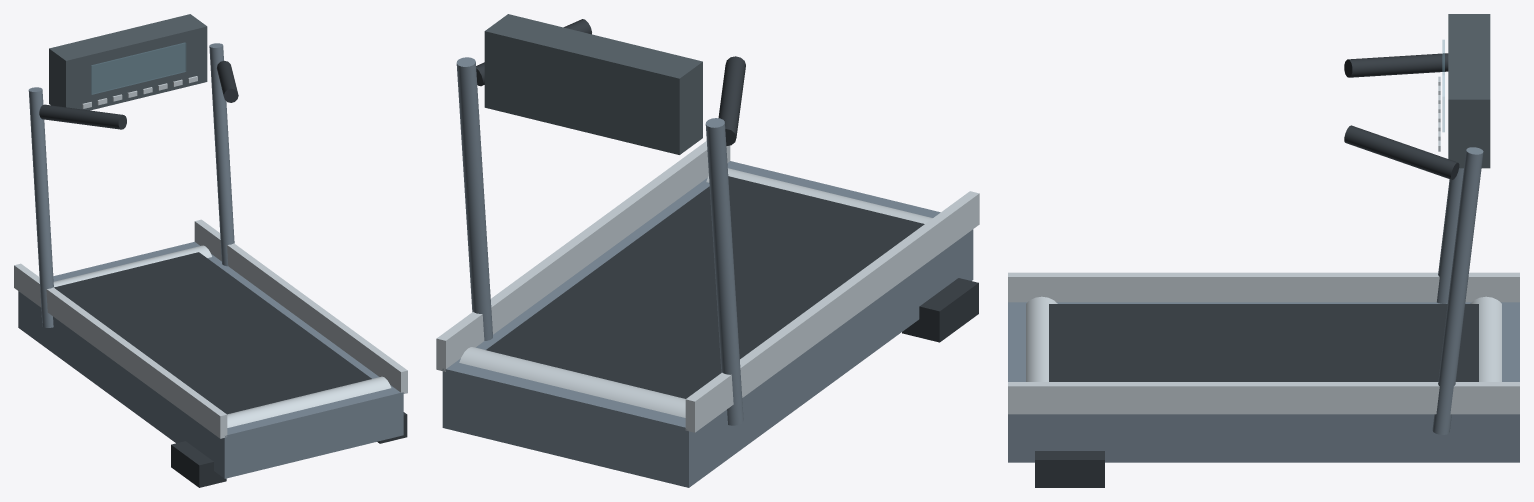
Rendered from treadmill01.glb.
The picture shows the model from 3 angles, left to right: view 1: azimuth 30°, elevation 25°; view 2: azimuth 150°, elevation 25°; view 3: azimuth 270°, elevation 25°; orthographic projection. The views are drawn at different scales.
Visible parts, largest first — view 1: belt_rubber_dark_1, deck_steel_painted_0, rail_steel_brushed_3, console_plastic_dark_7, upright_steel_painted_4, rollers_steel_brushed_2, display_glass_tinted_8, handle_rubber_dark_5, feet_rubber_dark_6, buttons_steel_brushed_9; view 2: belt_rubber_dark_1, deck_steel_painted_0, rail_steel_brushed_3, console_plastic_dark_7, upright_steel_painted_4, rollers_steel_brushed_2, feet_rubber_dark_6, handle_rubber_dark_5; view 3: belt_rubber_dark_1, rail_steel_brushed_3, deck_steel_painted_0, upright_steel_painted_4, console_plastic_dark_7, handle_rubber_dark_5, rollers_steel_brushed_2, feet_rubber_dark_6.
Boxes of the visible parts, x1,y1,x2,y2 form: belt_rubber_dark_1: (54,252,371,414); deck_steel_painted_0: (18,242,403,478); rail_steel_brushed_3: (14,219,407,438); console_plastic_dark_7: (49,14,207,110); upright_steel_painted_4: (28,43,234,327); rollers_steel_brushed_2: (53,245,391,427); display_glass_tinted_8: (91,42,185,94); handle_rubber_dark_5: (39,60,238,129); feet_rubber_dark_6: (171,412,407,487); buttons_steel_brushed_9: (82,76,197,108); belt_rubber_dark_1: (486,176,924,398); deck_steel_painted_0: (442,161,973,487); rail_steel_brushed_3: (436,141,979,432); console_plastic_dark_7: (484,14,702,154); upright_steel_painted_4: (456,57,743,425); rollers_steel_brushed_2: (459,168,932,417); feet_rubber_dark_6: (902,278,978,342); handle_rubber_dark_5: (476,19,745,145); belt_rubber_dark_1: (1049,304,1478,381); rail_steel_brushed_3: (1008,272,1519,414); deck_steel_painted_0: (1008,302,1519,462); upright_steel_painted_4: (1432,147,1483,434); console_plastic_dark_7: (1448,14,1490,168); handle_rubber_dark_5: (1344,53,1459,179); rollers_steel_brushed_2: (1026,296,1501,381); feet_rubber_dark_6: (1035,451,1104,487).
Size of the model in its own units: 1.06 by 1.45 by 1.82.
